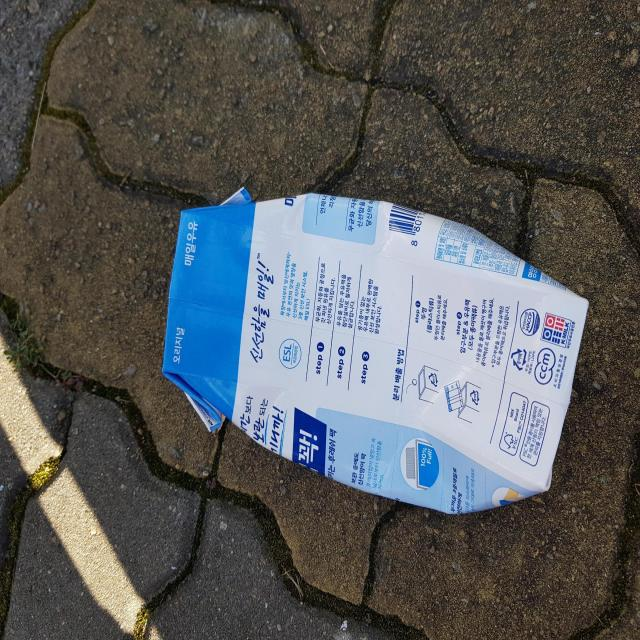paperpack: (162, 189, 590, 515)
